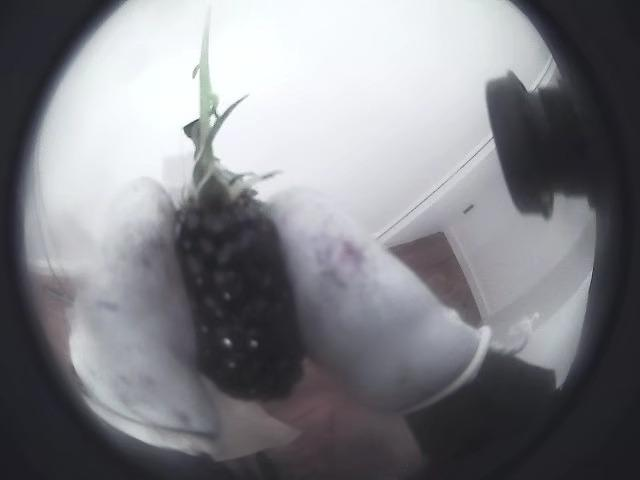berry: (175, 31, 303, 397)
gripper: (265, 189, 488, 414), (70, 177, 218, 446)
lense: (440, 0, 639, 479), (0, 0, 147, 479)
